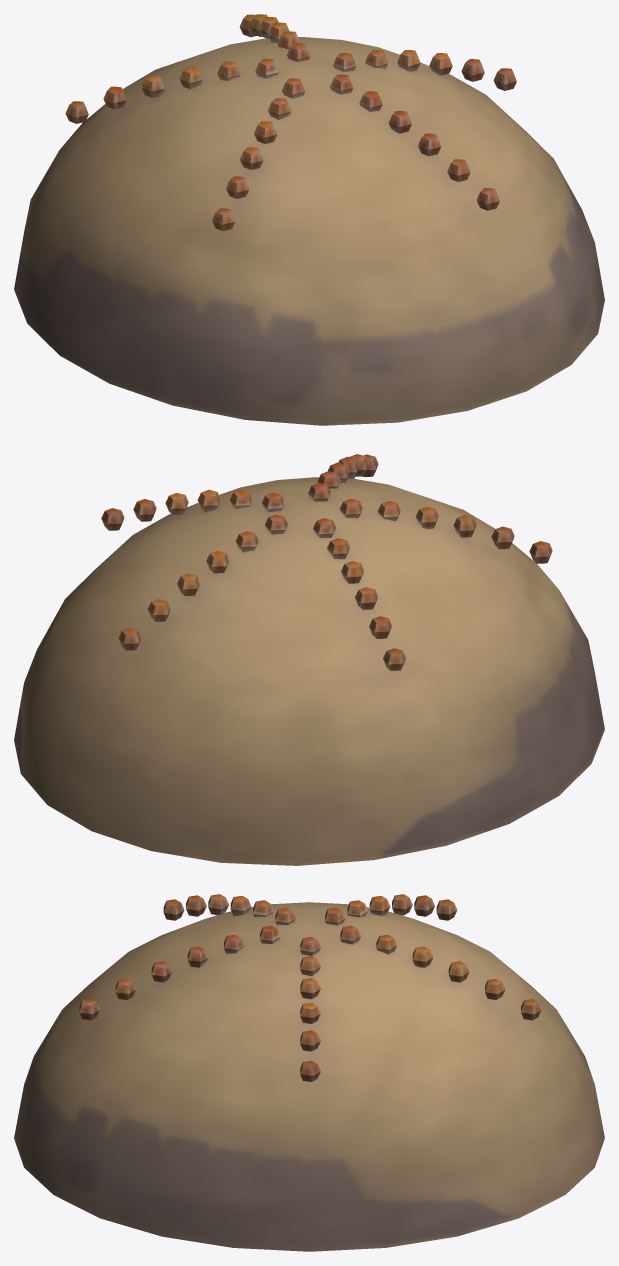
Rendered from urchin.glb.
3 views of the same model, one above another, from view 1: azimuth 30°, elevation 25°; view 2: azimuth 150°, elevation 25°; view 3: azimuth 270°, elevation 25° (orthographic). The views are drawn at different scales.
Parts seen in each view (by area): view 1: SM_Urchin; view 2: SM_Urchin; view 3: SM_Urchin.
Part boxes in pixels (bbox=[...]): SM_Urchin: bbox=[14, 14, 604, 425]; SM_Urchin: bbox=[14, 454, 604, 865]; SM_Urchin: bbox=[14, 894, 604, 1251].
Bounding box in the file's own units: 0.28 × 0.125 × 0.308.
Materials: 2 (2 with a texture image).
